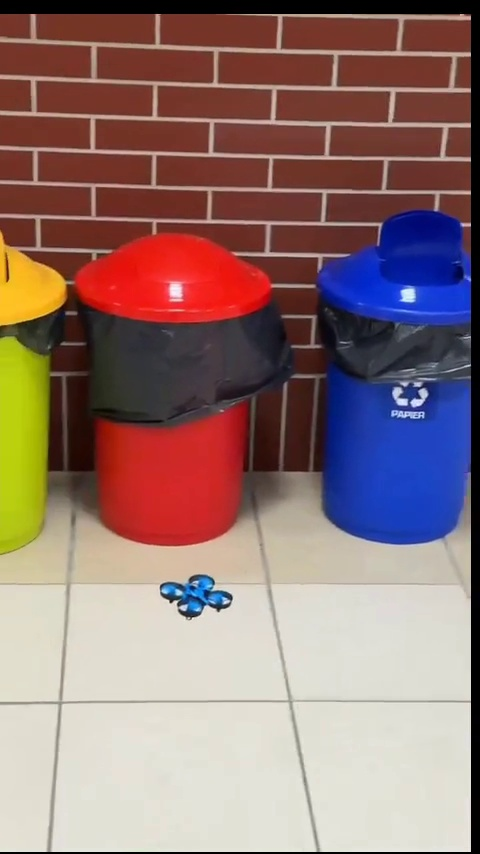drone: (162, 571, 227, 621)
